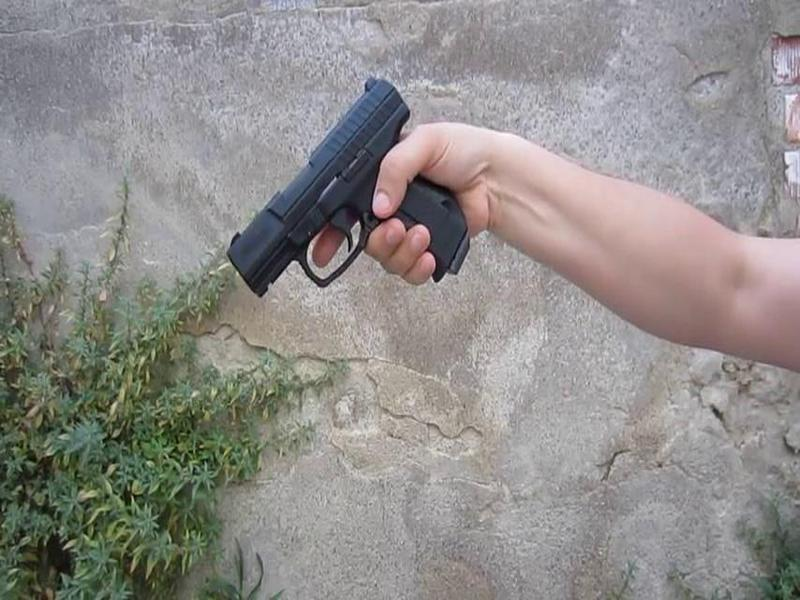Pistola: (211, 64, 459, 307)
